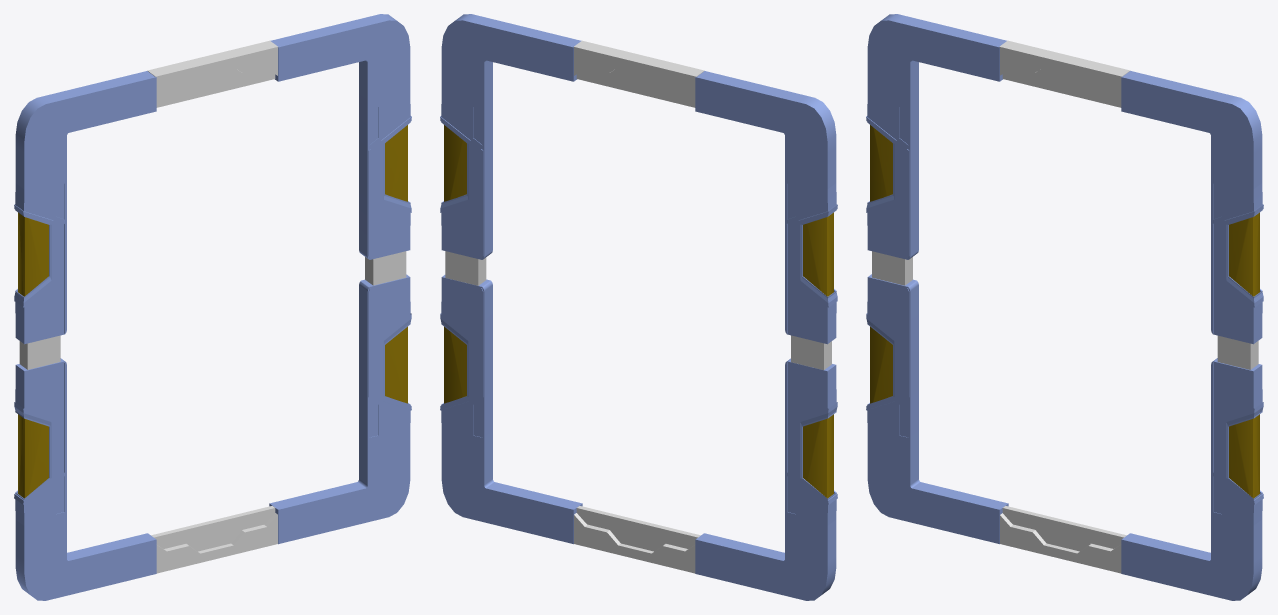
File: Sach_Card2.fbx
The picture shows the model from 3 angles, left to right: view 1: azimuth 30°, elevation 25°; view 2: azimuth 150°, elevation 25°; view 3: azimuth 330°, elevation 25°; orthographic projection.
Visible parts, largest first — view 1: Liquid_energy_contour.014, Liquid_energy_contour.015, Liquid_energy_contour.016, Liquid_energy_contour.017, Cube.016, Cube.015, Cube.014, Cube.013; view 2: Liquid_energy_contour.014, Liquid_energy_contour.016, Liquid_energy_contour.015, Liquid_energy_contour.017, Cube.016, Cube.015, Cube.014, Cube.013; view 3: Liquid_energy_contour.016, Liquid_energy_contour.017, Liquid_energy_contour.014, Liquid_energy_contour.015, Cube.016, Cube.015, Cube.014, Cube.013.
Part boxes in pixels (x1,y1,x2,y2): Liquid_energy_contour.014: (14,71,156,344); Liquid_energy_contour.015: (14,358,156,600); Liquid_energy_contour.016: (270,14,411,259); Liquid_energy_contour.017: (269,274,411,544); Cube.016: (147,40,277,107); Cube.015: (151,506,277,573); Cube.014: (365,251,406,285); Cube.013: (19,335,60,369); Liquid_energy_contour.014: (695,71,837,344); Liquid_energy_contour.016: (440,14,581,259); Liquid_energy_contour.015: (695,358,837,600); Liquid_energy_contour.017: (440,275,582,544); Cube.016: (574,40,704,107); Cube.015: (574,506,700,573); Cube.014: (445,251,486,285); Cube.013: (791,335,831,370); Liquid_energy_contour.016: (1121,71,1263,344); Liquid_energy_contour.017: (1121,358,1263,600); Liquid_energy_contour.014: (866,14,1006,259); Liquid_energy_contour.015: (866,274,1008,544); Cube.016: (999,40,1130,107); Cube.015: (1000,506,1126,573); Cube.014: (1217,335,1258,369); Cube.013: (872,251,912,285).
Bounding box in the file's own units: 1.88 × 2.3 × 0.0807.
